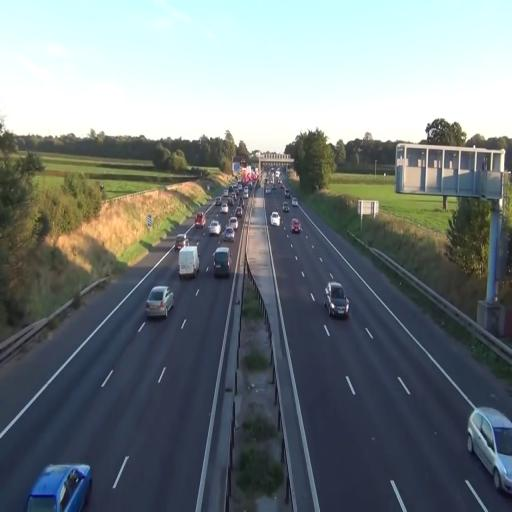vehicle: (467, 406, 512, 495), (26, 464, 92, 512), (324, 280, 350, 319), (146, 284, 174, 318), (179, 246, 198, 280), (213, 246, 231, 276), (207, 218, 221, 238), (270, 211, 281, 226), (291, 218, 301, 234)
